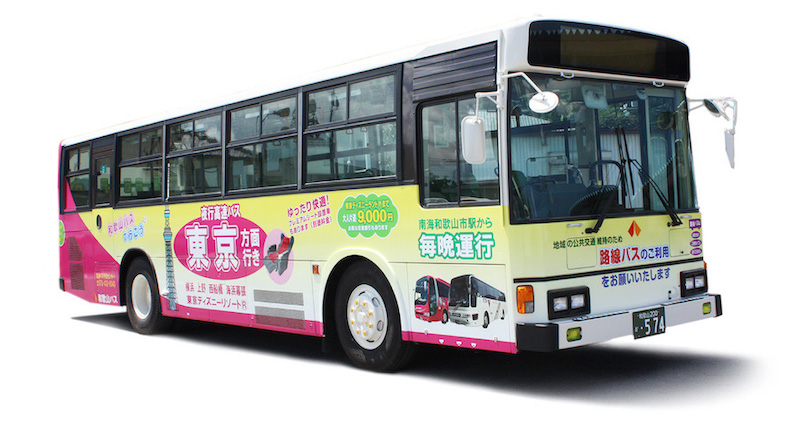destination: (559, 25, 655, 75)
